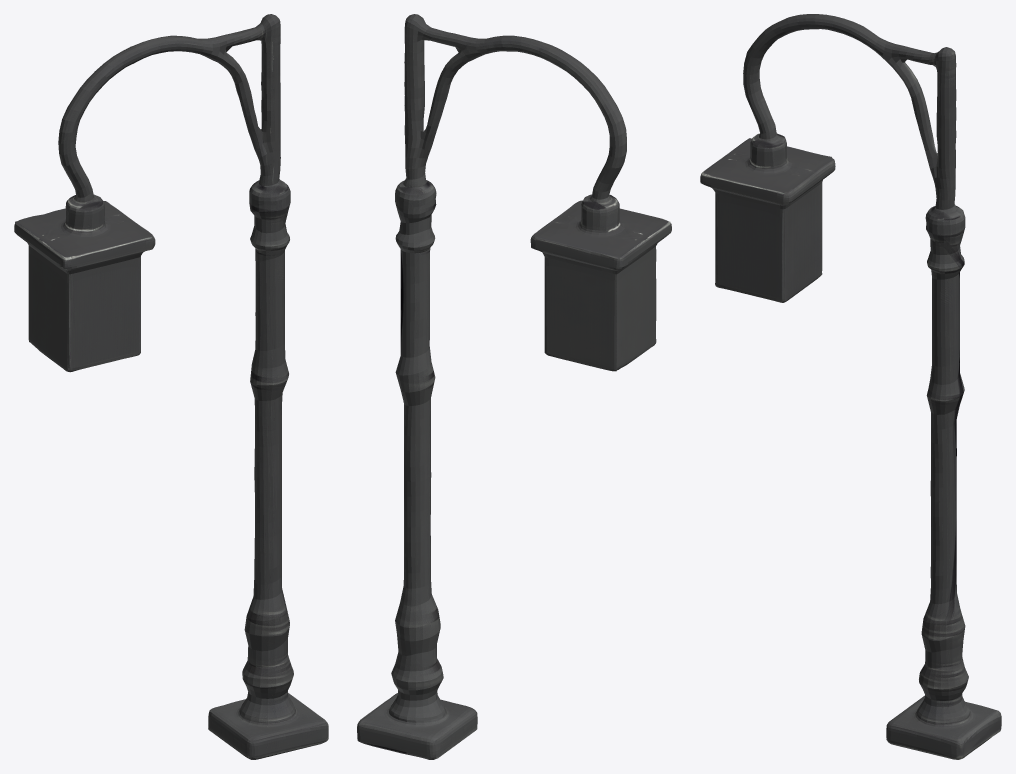
The model's file is Meshy_AI_Stylized_low_poly_str_0519051338_texture.obj.
3 views of the same model, side by side, from view 1: azimuth 30°, elevation 25°; view 2: azimuth 150°, elevation 25°; view 3: azimuth 330°, elevation 25° (orthographic). The views are drawn at different scales.
Visible parts, largest first — view 1: Meshy_AI_Stylized_low_poly_str_0519051338_texture; view 2: Meshy_AI_Stylized_low_poly_str_0519051338_texture; view 3: Meshy_AI_Stylized_low_poly_str_0519051338_texture.
Part boxes in pixels (x1,y1,x2,y2): Meshy_AI_Stylized_low_poly_str_0519051338_texture: (14, 14, 328, 759); Meshy_AI_Stylized_low_poly_str_0519051338_texture: (357, 14, 671, 759); Meshy_AI_Stylized_low_poly_str_0519051338_texture: (700, 14, 1001, 759).
Bounding box in the file's own units: 0.7461 × 1.92 × 0.2502.
1 material, 1 textured.
